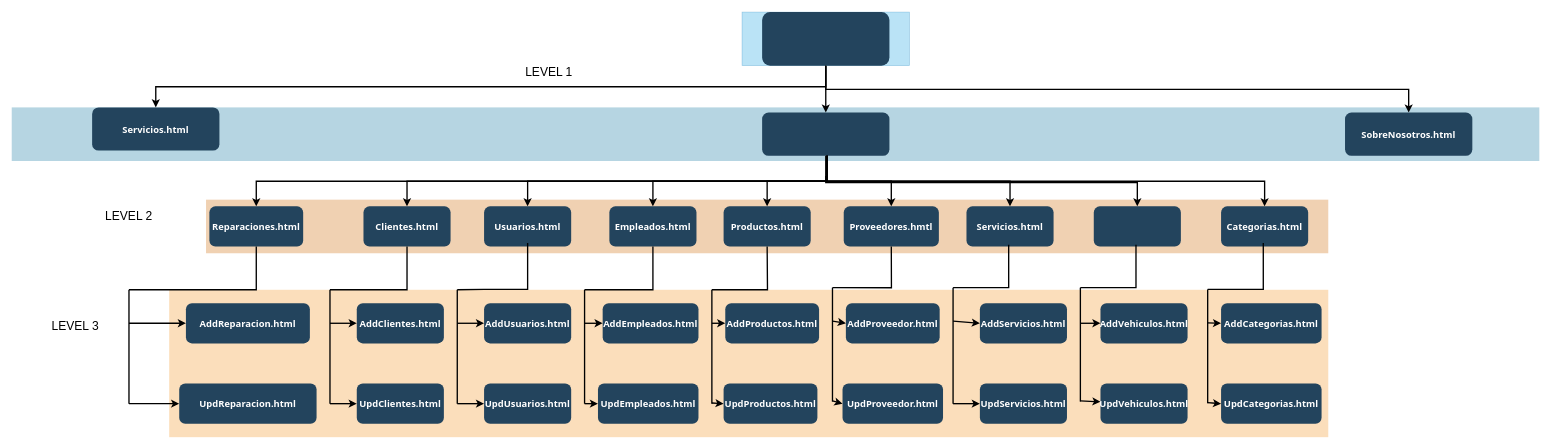
The diagram is 1550 pixels wide and 448 high, and some of its shapes have lost their labels. The centre of each missing label's shape, as x and y in pixels:
"Administracion.html" goes at (x=825, y=133).
"index.html" goes at (x=825, y=38).
"Vehiculos.html" goes at (x=1137, y=226).
